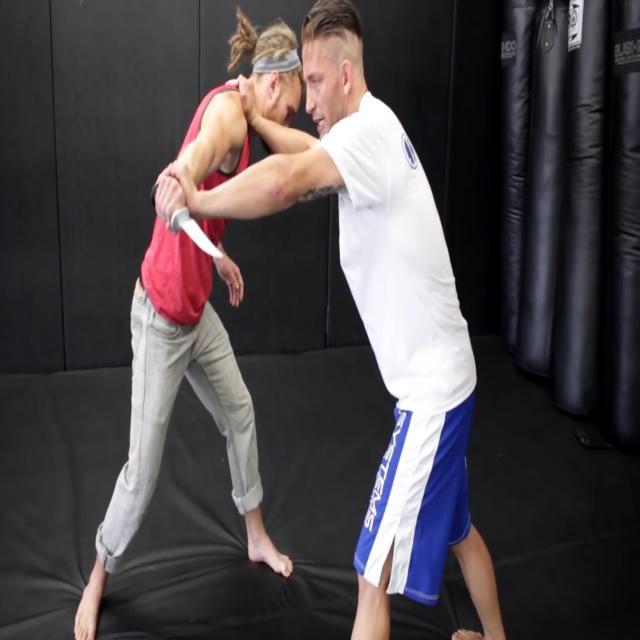knife: (172, 204, 228, 270)
